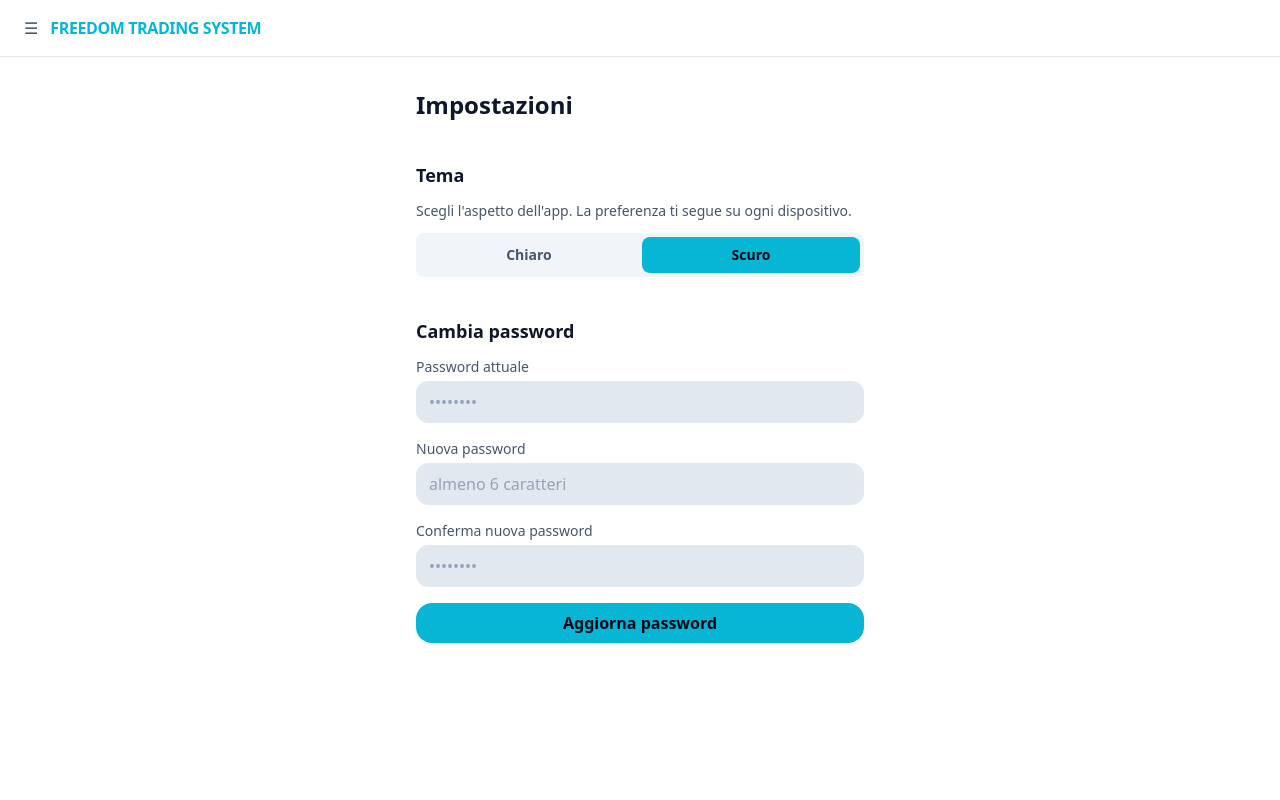
Settings — cambio password › rifiuta se nuova e conferma non coincidono
This screenshot has width=1280, height=800.
Step 1. Type "vecchia" into the password field labelled "Password attuale" → (640, 402), box [416,381,864,423]
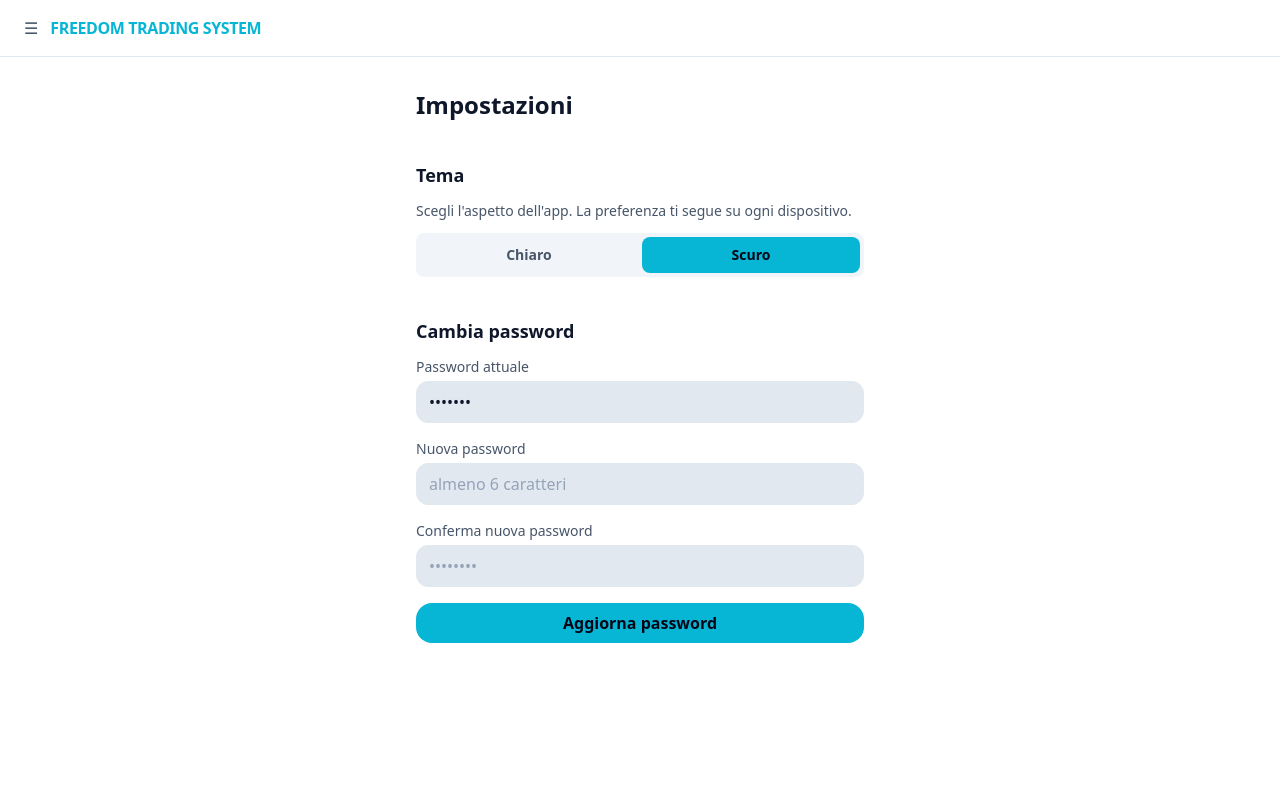
Step 2. Type "nuovapass" into the password field labelled "Nuova password" → (640, 484), box [416,463,864,505]
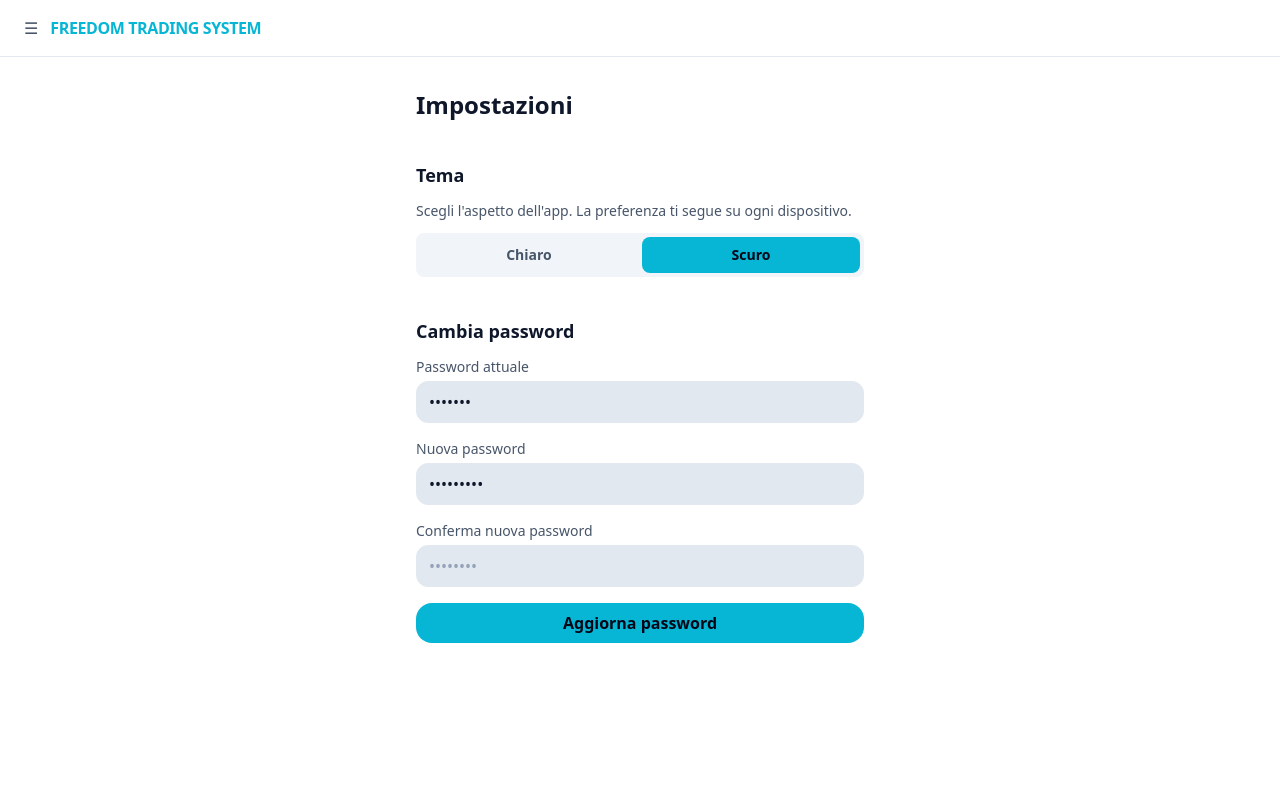
Step 3. Type "diversa1" into the password field labelled "Conferma nuova password" → (640, 566), box [416,545,864,587]
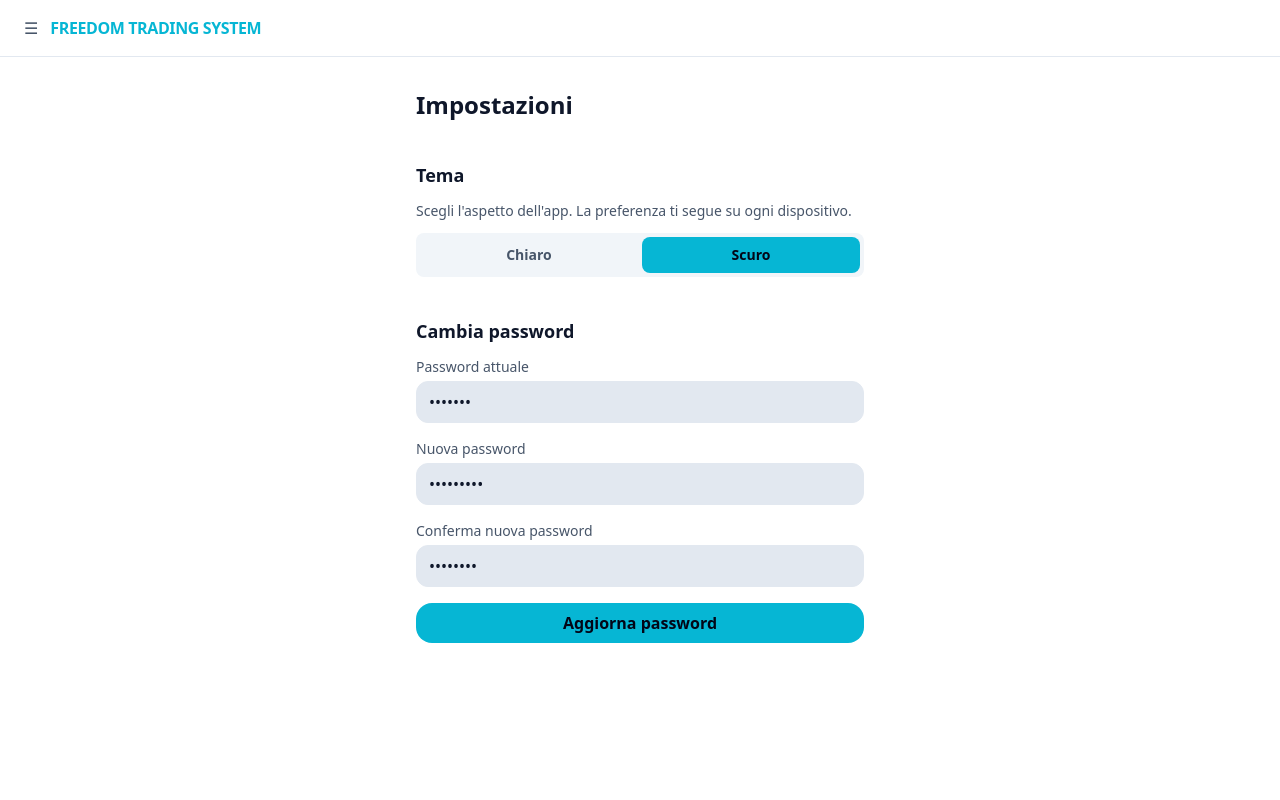
Step 4. Click the button "Aggiorna password" → (640, 623), box [416,603,864,643]
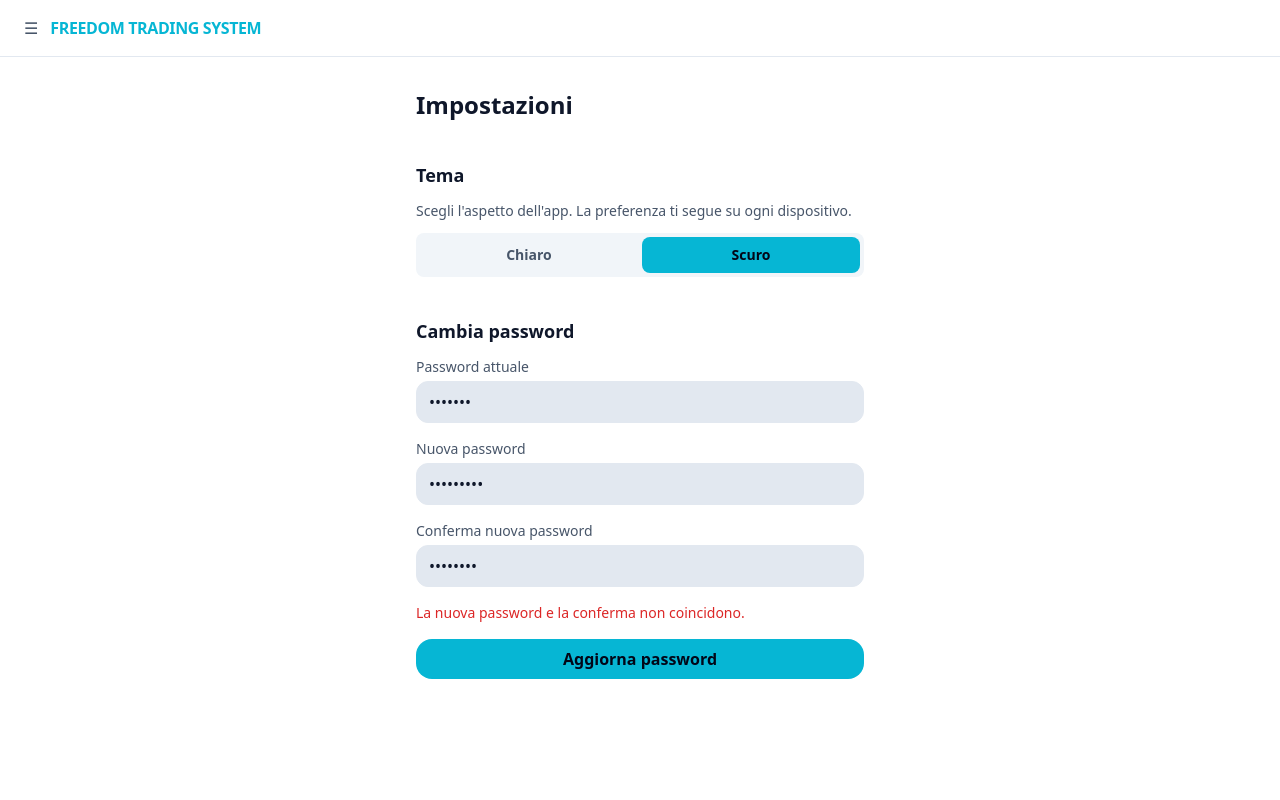
Result: the message shows "non coincidono" at [416,603,745,622]
